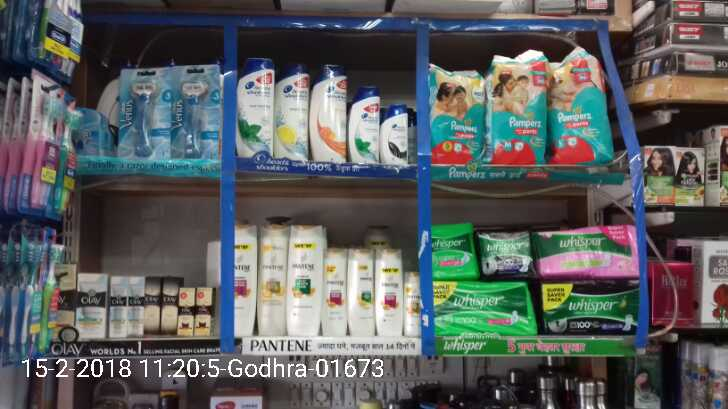venus: (168, 64, 220, 159), (122, 67, 168, 159)
